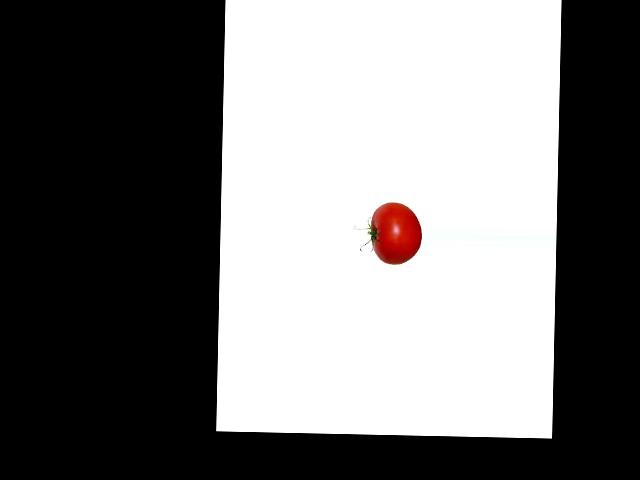tomato: (370, 202, 422, 264)
